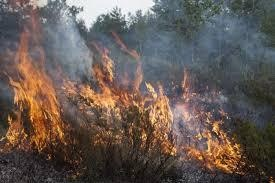fire: (5, 29, 258, 158), (1, 21, 70, 149)
